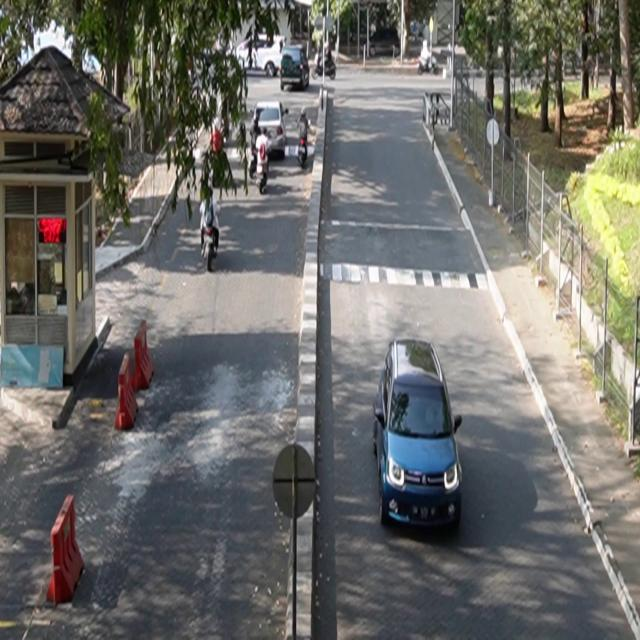car: (373, 338, 464, 532), (250, 101, 290, 159)
